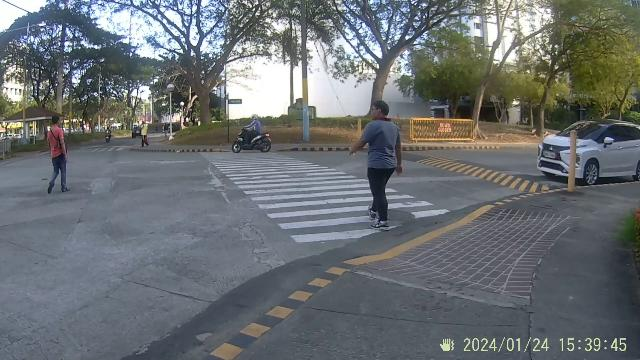lamp_post: (166, 82, 178, 146)
street_sign: (226, 91, 244, 137)
utility_post: (300, 0, 312, 144)
